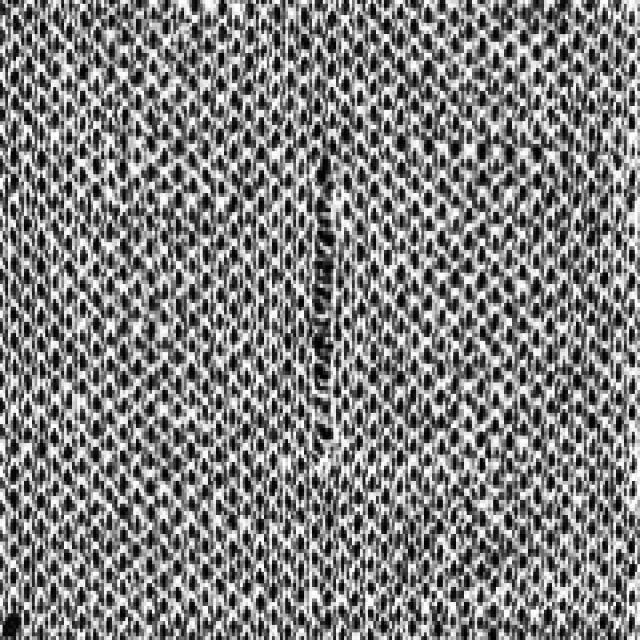cut: (297, 126, 351, 499)
